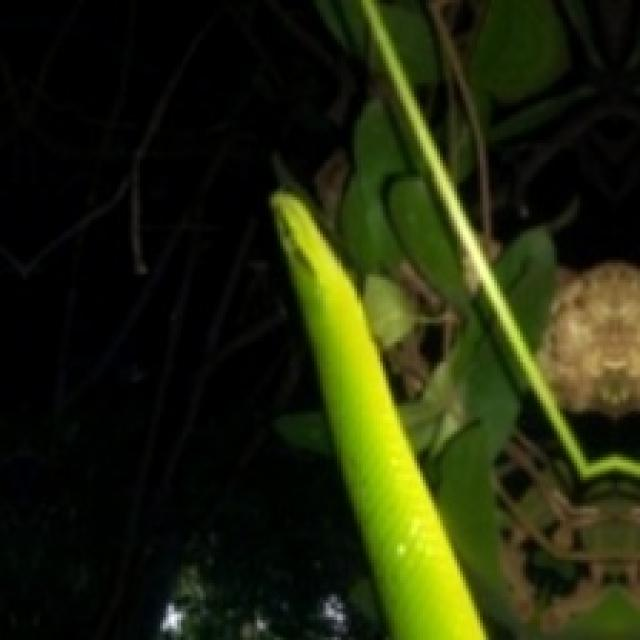red-tailed green ratsnake: (271, 191, 483, 637), (537, 263, 637, 414)
